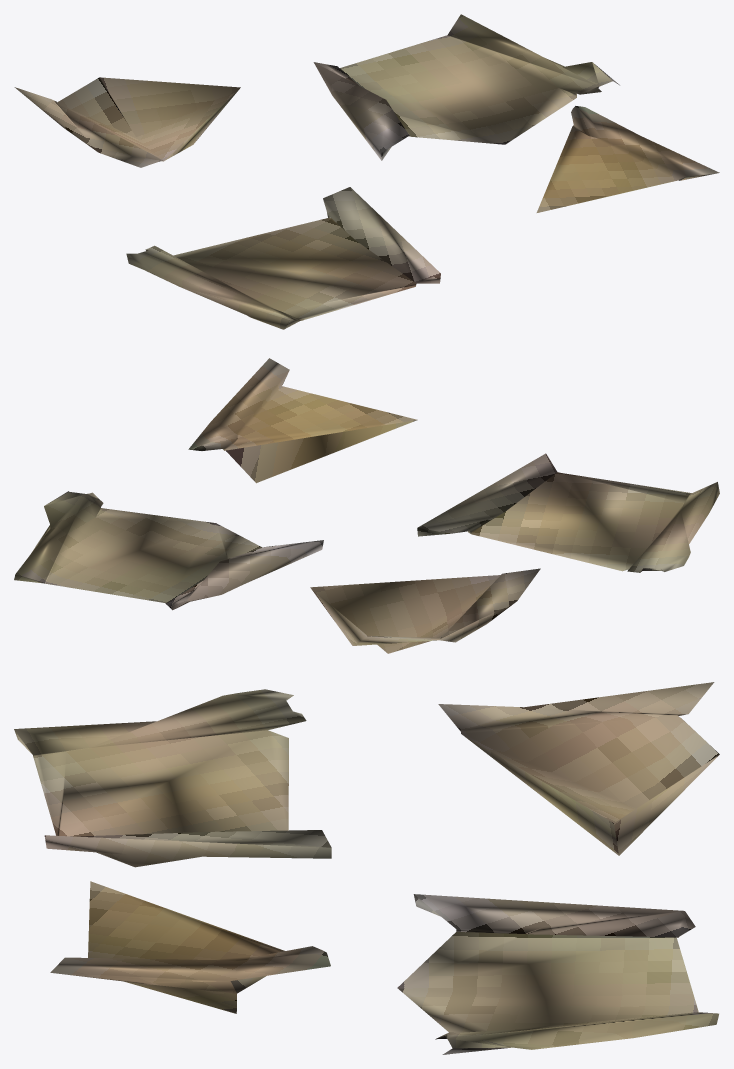
File: TABLEWARE_SET-low.glb
The picture shows the model from 3 angles, top to bottom: view 1: azimuth 30°, elevation 25°; view 2: azimuth 150°, elevation 25°; view 3: azimuth 270°, elevation 25°; orthographic projection. The views are drawn at different scales.
Visible parts, largest first — view 1: TABLEWARE_SET; view 2: TABLEWARE_SET; view 3: TABLEWARE_SET.
Part boxes in pixels (x1,y1,x2,y2): TABLEWARE_SET: [14, 14, 719, 329]; TABLEWARE_SET: [14, 358, 719, 653]; TABLEWARE_SET: [14, 682, 719, 1054].
Bounding box in the file's own units: 0.3417 × 0.0393 × 0.2888.
1 material, 1 textured.
